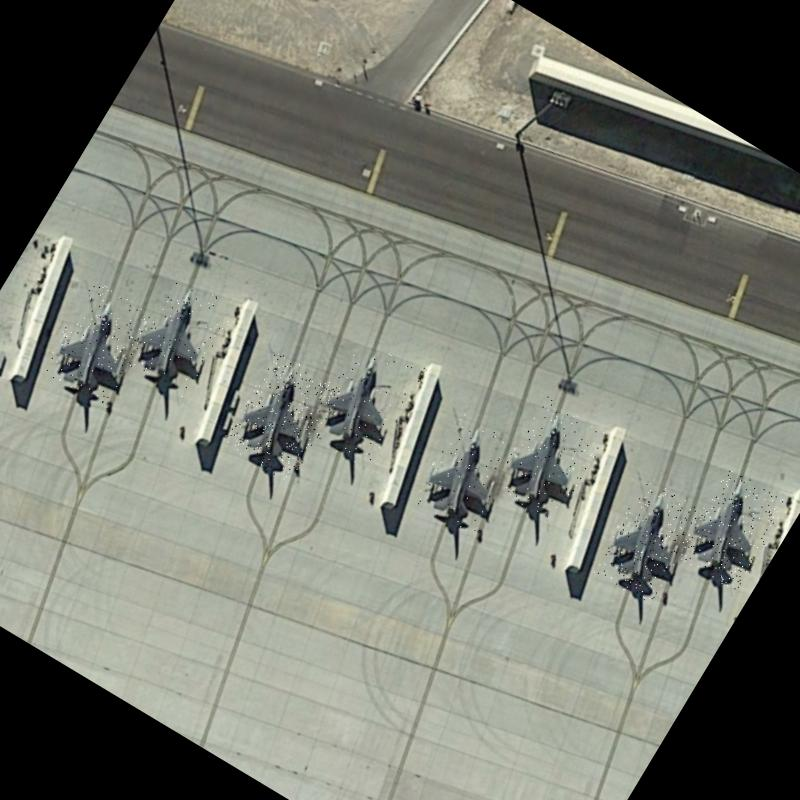A5: (302, 332, 428, 472), (220, 349, 346, 484), (39, 279, 160, 410), (491, 396, 610, 526), (120, 270, 238, 401), (410, 411, 528, 540), (590, 476, 706, 606), (674, 466, 788, 592)
